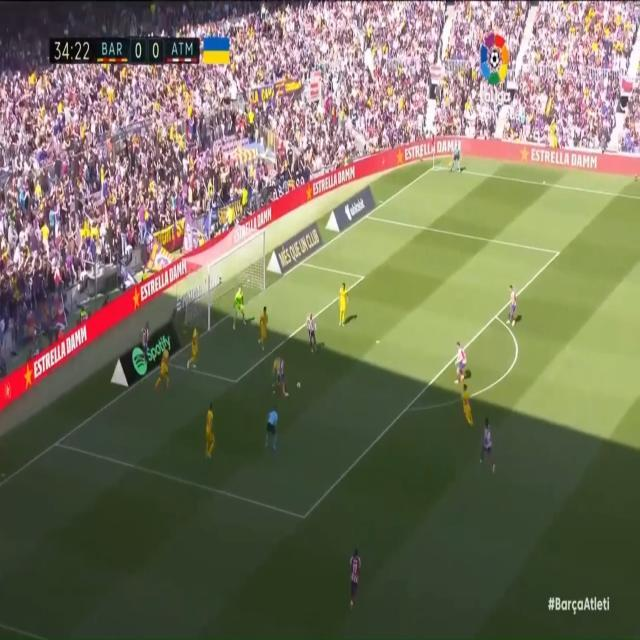ball: (295, 378, 301, 393)
goalkeeper: (223, 284, 249, 334)
player: (340, 537, 365, 626), (199, 394, 217, 469), (479, 405, 496, 483), (457, 378, 479, 433), (261, 344, 280, 404), (181, 318, 199, 380), (303, 310, 324, 363), (505, 272, 522, 336), (334, 276, 352, 333), (255, 299, 272, 359), (277, 344, 293, 404), (157, 339, 173, 395), (452, 334, 468, 386), (139, 315, 152, 375)
referee: (260, 395, 281, 462), (446, 131, 463, 175)
